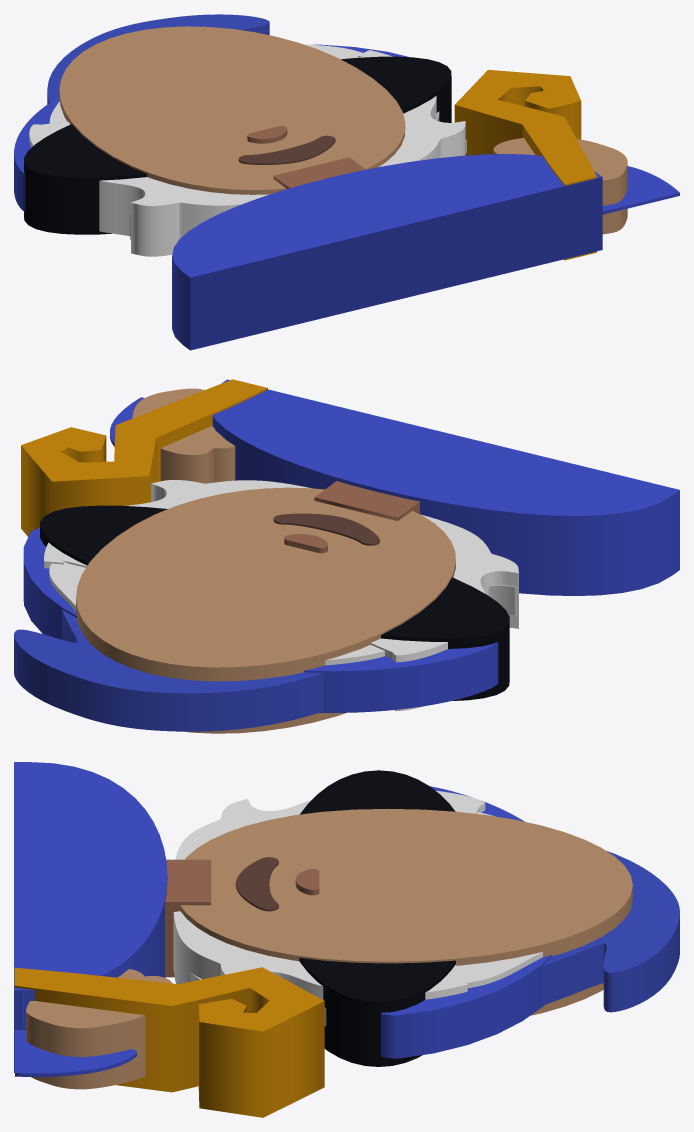
Rendered from emoji_u1f9d9_1f3fd.glb.
3 views of the same model, one above another, from view 1: azimuth 30°, elevation 25°; view 2: azimuth 150°, elevation 25°; view 3: azimuth 270°, elevation 25° (orthographic). The views are drawn at different scales.
Parts seen in each view (by area): view 1: emoji_u1f9d9_1f3fd; view 2: emoji_u1f9d9_1f3fd; view 3: emoji_u1f9d9_1f3fd.
Part boxes in pixels (bbox=[...]): emoji_u1f9d9_1f3fd: bbox=[14, 14, 679, 350]; emoji_u1f9d9_1f3fd: bbox=[14, 379, 679, 733]; emoji_u1f9d9_1f3fd: bbox=[14, 762, 679, 1117].
Bounding box in the file's own units: 0.0325 × 0.0048 × 0.0336.
